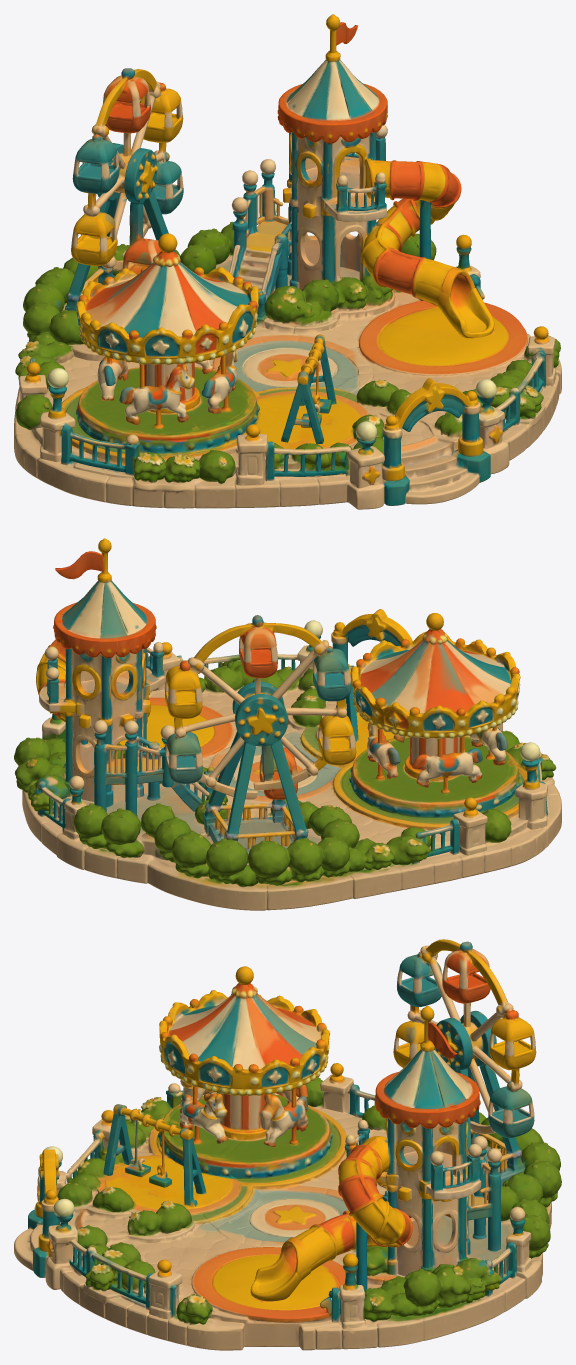
File: AmusementPark.glb
3 renders of one model, top to bottom at view 1: azimuth 30°, elevation 25°; view 2: azimuth 150°, elevation 25°; view 3: azimuth 270°, elevation 25°, orthographic. The views are drawn at different scales.
Parts seen in each view (by area): view 1: tripo_node_c9729ac4-588d-4575-8196-96beb1709194; view 2: tripo_node_c9729ac4-588d-4575-8196-96beb1709194; view 3: tripo_node_c9729ac4-588d-4575-8196-96beb1709194.
Part boxes in pixels (x1,y1,x2,y2): tripo_node_c9729ac4-588d-4575-8196-96beb1709194: (14, 14, 561, 509); tripo_node_c9729ac4-588d-4575-8196-96beb1709194: (14, 538, 561, 910); tripo_node_c9729ac4-588d-4575-8196-96beb1709194: (14, 939, 561, 1350).
Bounding box in the file's own units: 0.9808 × 0.5741 × 0.9728.
Materials: 1 (1 with a texture image).
